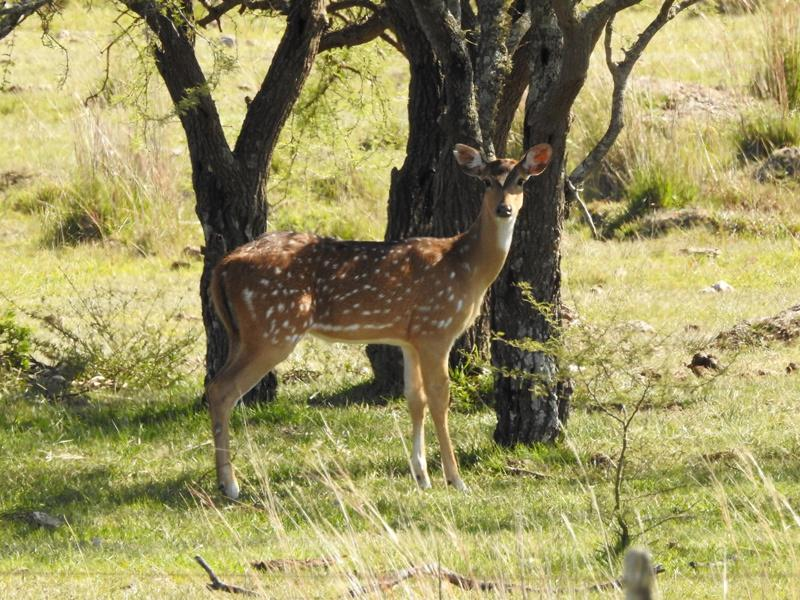Deer: (206, 143, 552, 497)
